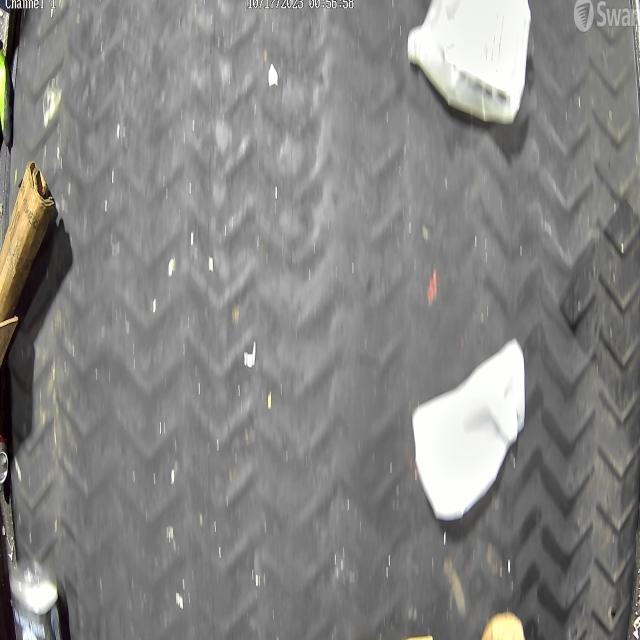can: (0, 390, 8, 489)
milk_jug: (414, 334, 526, 526), (408, 0, 532, 123)
plastic_bottle: (10, 558, 66, 640)
